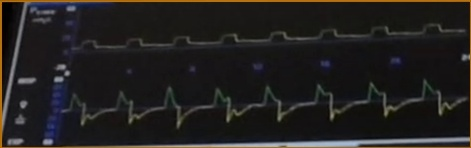Premature_cycling Flow: (68, 80, 466, 135)
